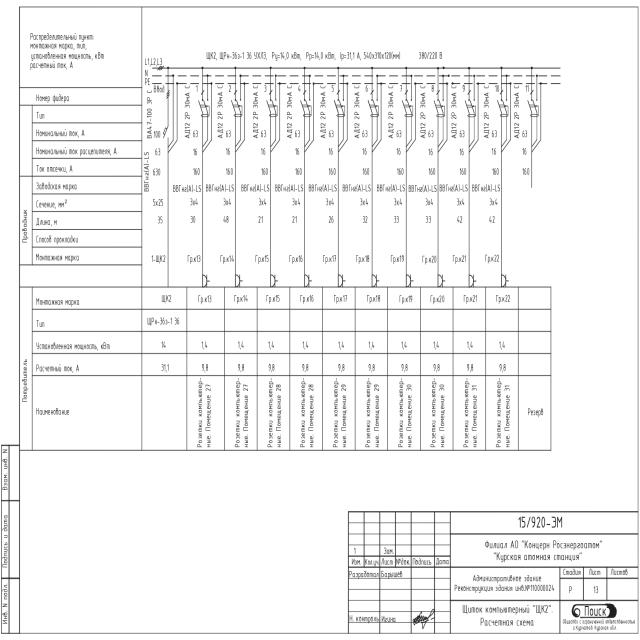-: (482, 84, 500, 176), (450, 84, 468, 175), (286, 84, 303, 176), (218, 84, 235, 176), (419, 84, 436, 176), (354, 84, 371, 176), (319, 84, 336, 175), (183, 85, 200, 176), (252, 84, 268, 176), (388, 85, 404, 176), (514, 85, 530, 176), (146, 89, 162, 178), (219, 51, 266, 60)
QF: (162, 88, 171, 142)
QFD: (496, 98, 511, 121), (333, 98, 348, 120), (526, 97, 540, 120), (300, 97, 314, 120), (230, 96, 244, 119), (463, 98, 477, 120), (433, 99, 447, 121), (402, 97, 416, 119), (368, 97, 382, 119), (265, 97, 279, 119), (197, 97, 211, 119)
